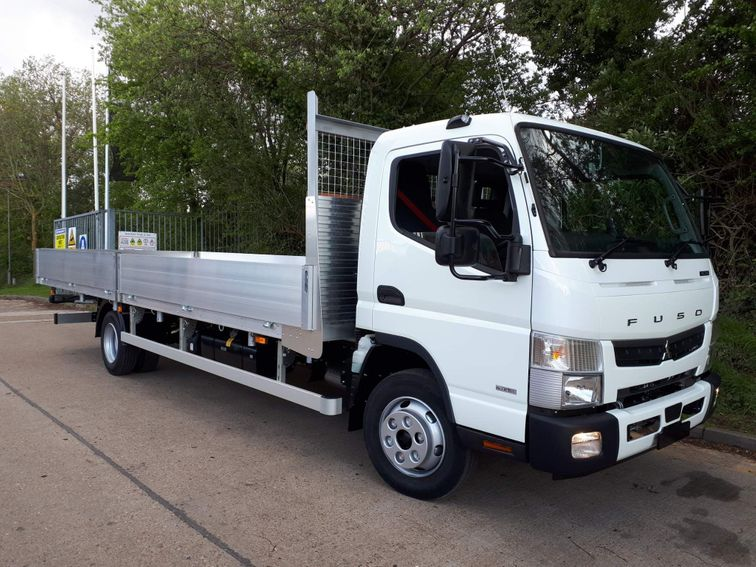Semi: (34, 90, 719, 500)
